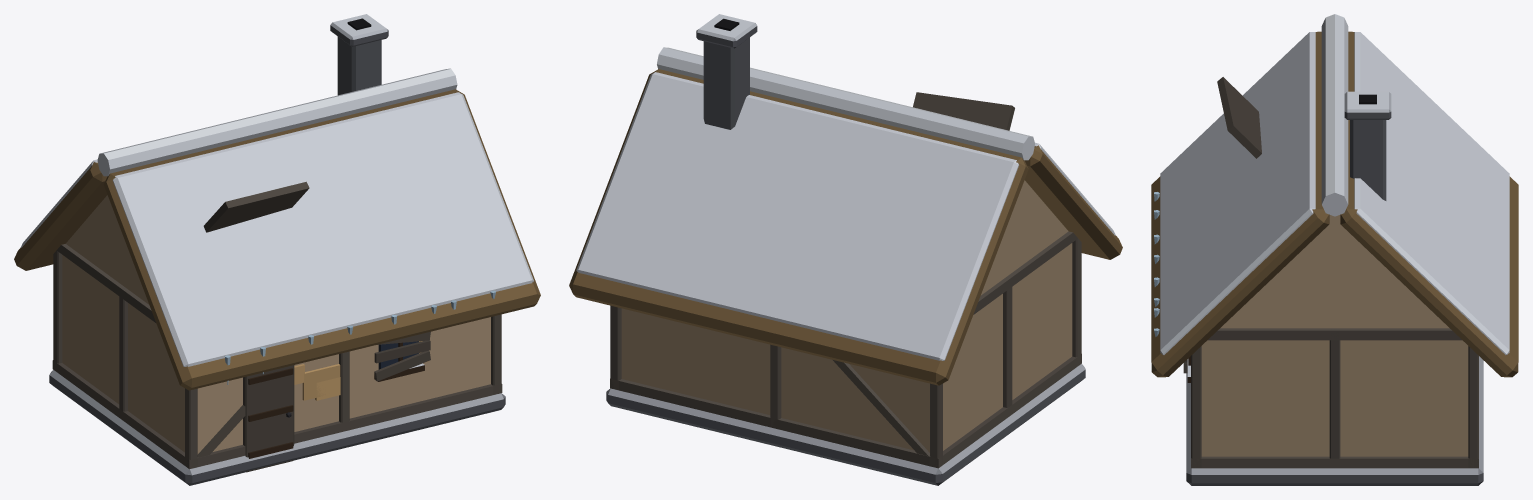
The model's file is village_debt_house.glb.
3 renders of one model, left to right at view 1: azimuth 30°, elevation 25°; view 2: azimuth 150°, elevation 25°; view 3: azimuth 270°, elevation 25°, orthographic. The views are drawn at different scales.
Parts seen in each view (by area): view 1: village_debt_house; view 2: village_debt_house; view 3: village_debt_house.
Boxes of the visible parts, x1,y1,x2,y2 form: village_debt_house: (14,14,540,485); village_debt_house: (569,14,1122,485); village_debt_house: (1151,14,1518,485).
Bounding box in the file's own units: 6.6 × 5.97 × 5.56.
